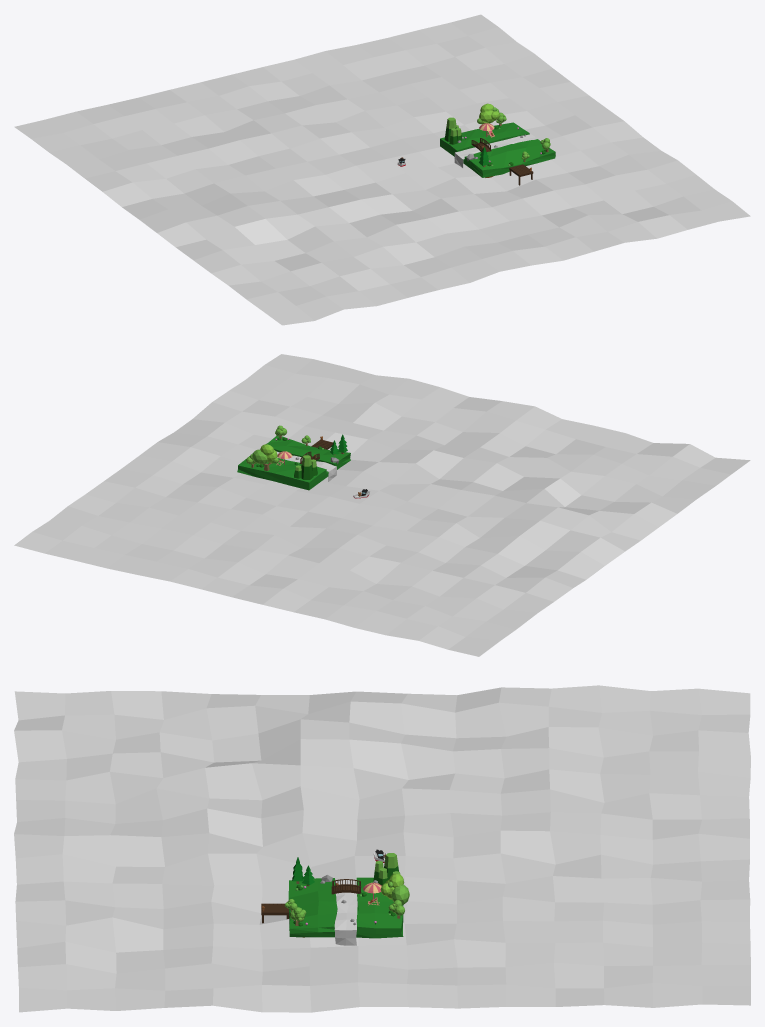
The model's file is FinalScene.fbx.
The picture shows the model from 3 angles, top to bottom: view 1: azimuth 30°, elevation 25°; view 2: azimuth 150°, elevation 25°; view 3: azimuth 270°, elevation 25°; orthographic projection. The views are drawn at different scales.
Visible parts, largest first — view 1: Sea, Ground, Watrer; view 2: Sea, Ground; view 3: Sea, Ground, Watrer, Icosphere.011.
Part boxes in pixels (<box>): Sea: <box>14,14,750,325</box>; Ground: <box>440,122,555,177</box>; Watrer: <box>454,134,539,167</box>; Sea: <box>14,354,750,656</box>; Ground: <box>237,436,350,490</box>; Sea: <box>14,685,750,1012</box>; Ground: <box>288,877,403,938</box>; Watrer: <box>334,878,357,945</box>; Icosphere.011: <box>380,873,409,905</box>.
Bounding box in the file's own units: 86.06 × 7.77 × 85.75.
